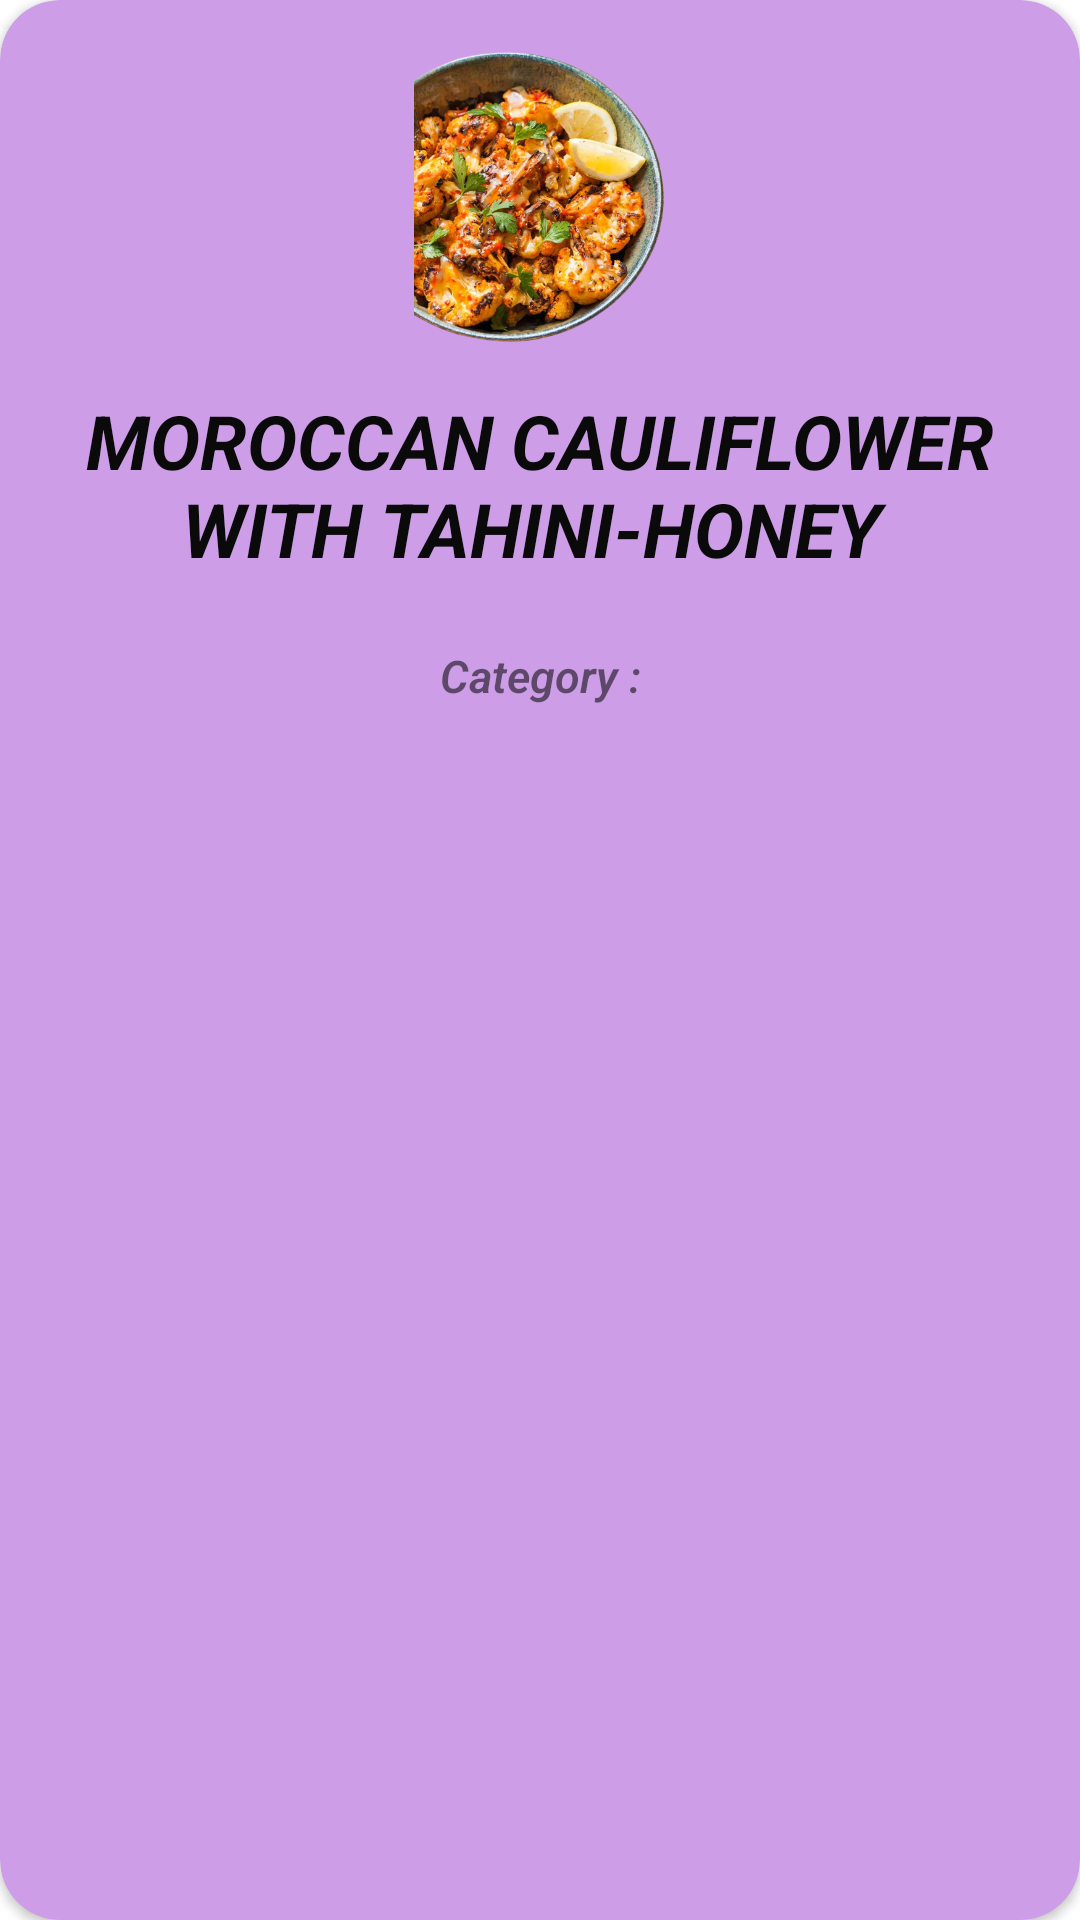

Icon click points for this 1080 x 1920 phone screenshot, format point (x, y):
dish: point (539, 197)
